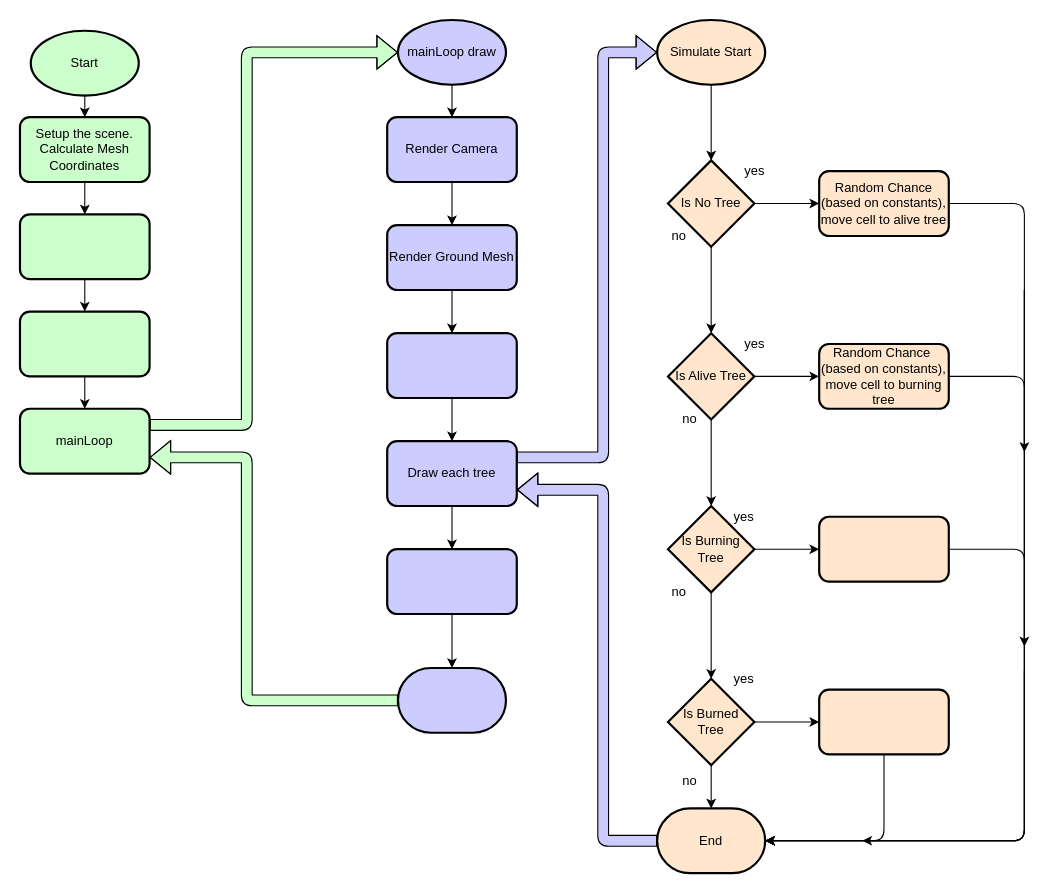
The diagram is 1052 pixels wide and 892 high, and some of its shapes have lost their labels. The shapes that lost their labels are listed below. From the top down, each one's centre as x and y in pixels, then its label:
At point (84, 246): "Setup the scene. Calculate Tree Coordinates".
At point (84, 343): "Setup the scene. Calculate Tree neighbors".
At point (451, 365): "Simulate each tree".
At point (883, 548): "After set time, move cell to burned tree".
At point (451, 581): "Draw Text to screen".
At point (451, 699): "End draw".
At point (883, 721): "Random Chance (based on constants), move cell to either no tree or alive tree".
